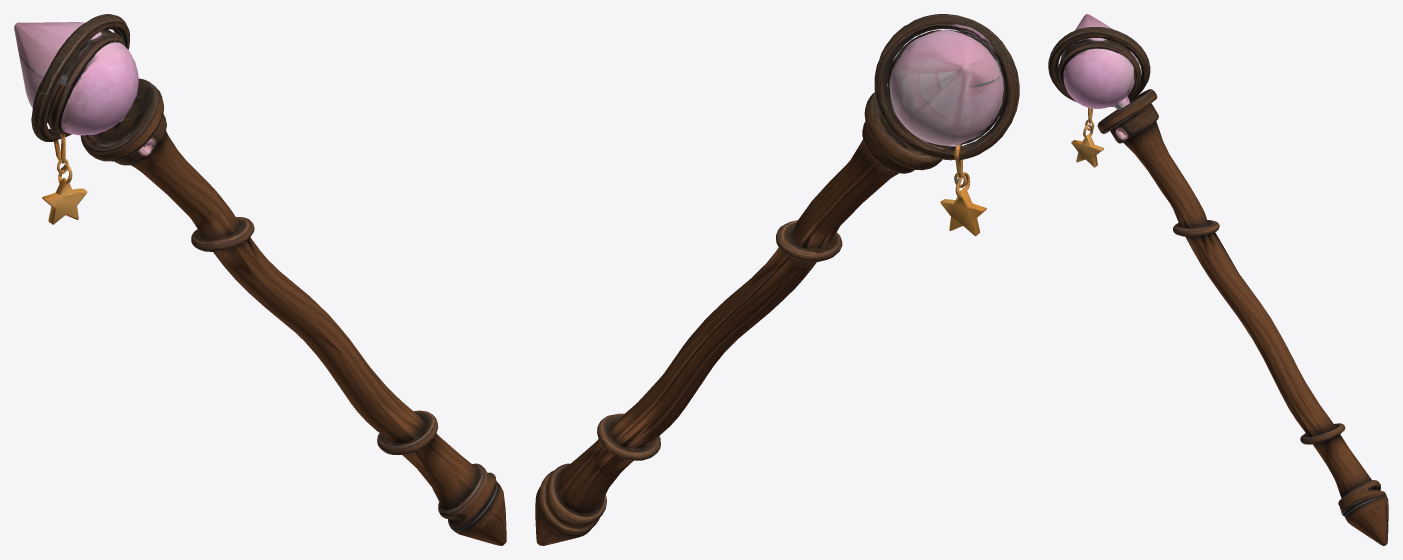
File: elly_staff.fbx
3 views of the same model, side by side, from view 1: azimuth 30°, elevation 25°; view 2: azimuth 150°, elevation 25°; view 3: azimuth 330°, elevation 25° (orthographic). The views are drawn at different scales.
Parts seen in each view (by area): view 1: Mesh_0; view 2: Mesh_0; view 3: Mesh_0.
Part boxes in pixels (left/top/right/bottom): Mesh_0: left=14, top=14, right=506, bottom=545; Mesh_0: left=535, top=14, right=1019, bottom=545; Mesh_0: left=1048, top=14, right=1388, bottom=545.
Bounding box in the file's own units: 151 × 190 × 31.37.
1 material, 1 textured.
